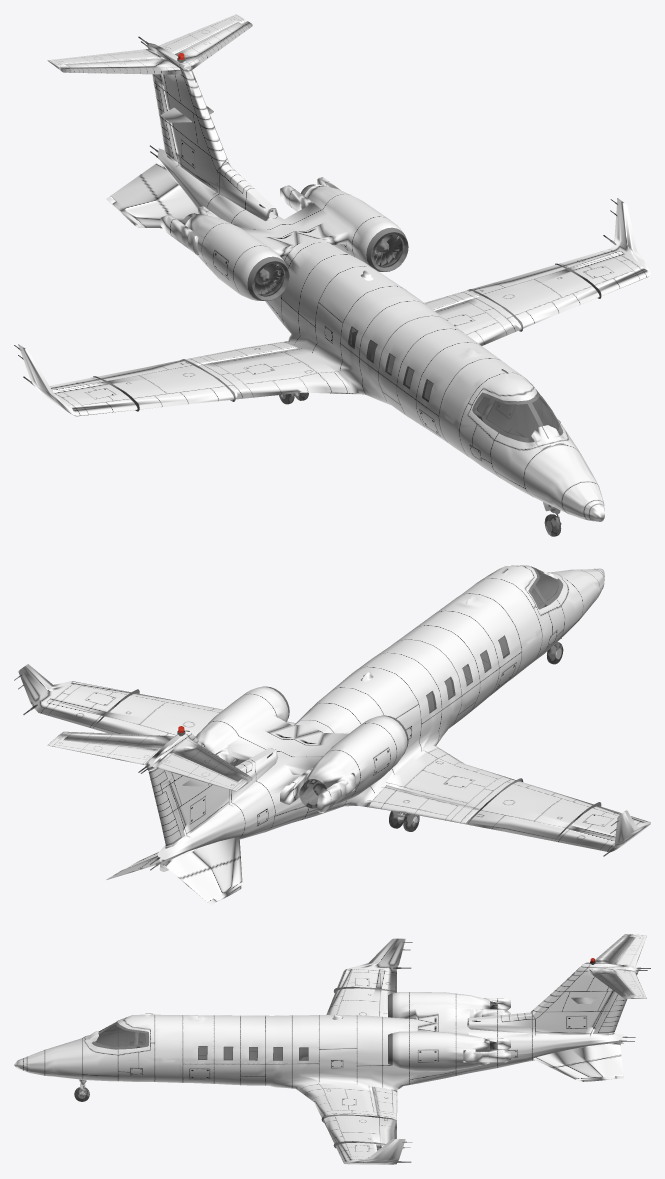
Rendered from learjet_60.fbx.
The picture shows the model from 3 angles, top to bottom: view 1: azimuth 30°, elevation 25°; view 2: azimuth 150°, elevation 25°; view 3: azimuth 270°, elevation 25°; orthographic projection. The views are drawn at different scales.
Parts seen in each view (by area): view 1: Learjet1, rudder_landing2, rudder_height_1, rudder_height_2, rudder_stearing; view 2: Learjet1, rudder_landing2, rudder_stearing, rudder_height_1, rudder_height_2; view 3: Learjet1, rudder_stearing, rudder_landing1, rudder_height_2, rudder_height_1.
Part boxes in pixels (bbox=[...]): Learjet1: bbox=[14, 21, 650, 536]; rudder_landing2: bbox=[185, 342, 297, 365]; rudder_height_1: bbox=[158, 14, 246, 54]; rudder_height_2: bbox=[47, 49, 159, 68]; rudder_stearing: bbox=[152, 74, 176, 161]; Learjet1: bbox=[14, 565, 650, 905]; rudder_landing2: bbox=[368, 785, 479, 824]; rudder_stearing: bbox=[148, 768, 184, 846]; rudder_height_1: bbox=[47, 735, 159, 764]; rudder_height_2: bbox=[157, 753, 247, 791]; Learjet1: bbox=[14, 934, 650, 1164]; rudder_stearing: bbox=[593, 972, 637, 1033]; rudder_landing1: bbox=[372, 1086, 397, 1119]; rudder_height_2: bbox=[614, 934, 646, 966]; rudder_height_1: bbox=[613, 970, 646, 998].
Bounding box in the file's own units: 11.27 × 3.8 × 15.12.
Materials: 14 (3 with a texture image).
